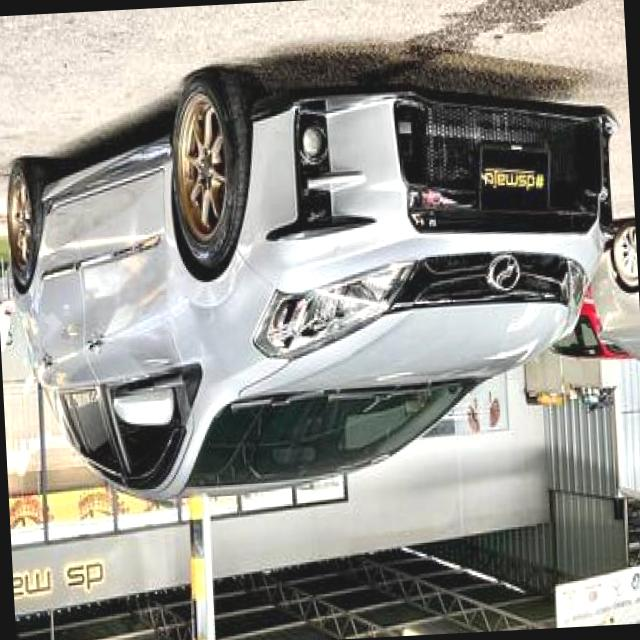PeroduaMyvi: (0, 47, 639, 513)
